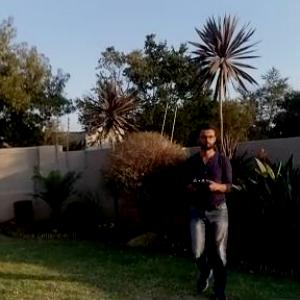follow: (183, 120, 236, 299)
